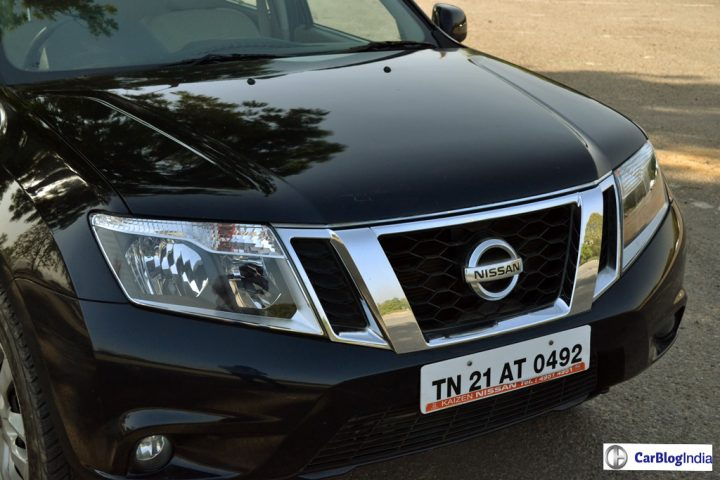number_plate: (405, 336, 622, 406)
